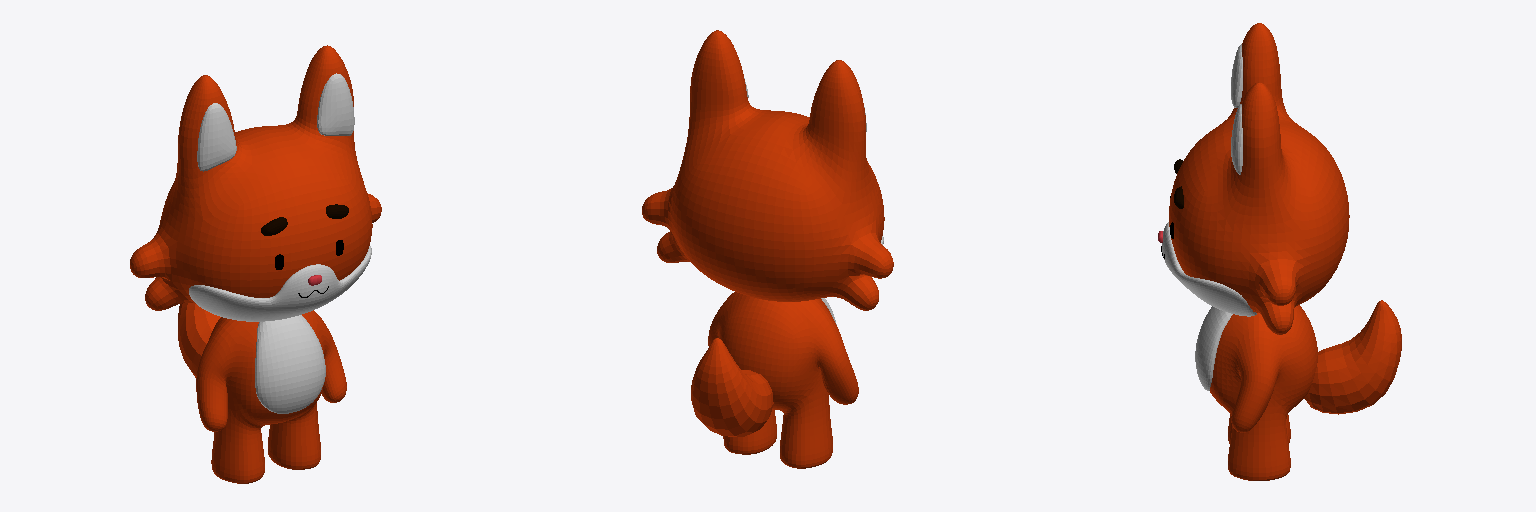
File: Fox.obj
3 views of the same model, side by side, from view 1: azimuth 30°, elevation 25°; view 2: azimuth 150°, elevation 25°; view 3: azimuth 270°, elevation 25° (orthographic).
Visible parts, largest first — view 1: Cube.009, Cube.010, Cube.013, Cube.011, Cube.012, Cube.017, Cube.015; view 2: Cube.009, Cube.010, Cube.017; view 3: Cube.009, Cube.010, Cube.017, Cube.011, Cube.013, Cube.012.
Part boxes in pixels (left/top/right/bottom): Cube.009: left=130, top=45, right=381, bottom=310; Cube.010: left=196, top=310, right=346, bottom=483; Cube.013: left=255, top=315, right=325, bottom=413; Cube.011: left=189, top=246, right=371, bottom=321; Cube.012: left=197, top=73, right=354, bottom=171; Cube.017: left=178, top=303, right=220, bottom=377; Cube.015: left=261, top=204, right=348, bottom=235; Cube.009: left=642, top=30, right=893, bottom=310; Cube.010: left=708, top=292, right=858, bottom=468; Cube.017: left=691, top=338, right=773, bottom=436; Cube.009: left=1169, top=23, right=1349, bottom=334; Cube.010: left=1210, top=305, right=1317, bottom=480; Cube.017: left=1304, top=300, right=1401, bottom=414; Cube.011: left=1162, top=222, right=1256, bottom=316; Cube.013: left=1195, top=306, right=1232, bottom=390; Cube.012: left=1231, top=44, right=1242, bottom=174.
Size of the model in its own units: 2.54 by 3.97 by 2.17.